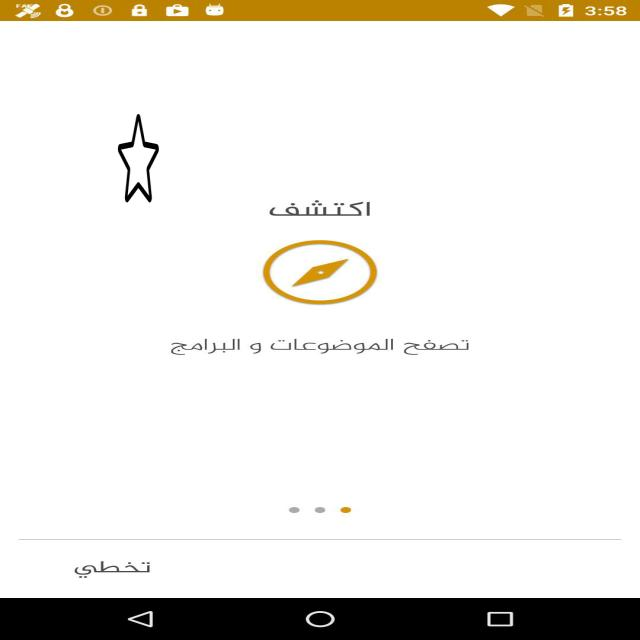forced continuity: (118, 112, 159, 204)
